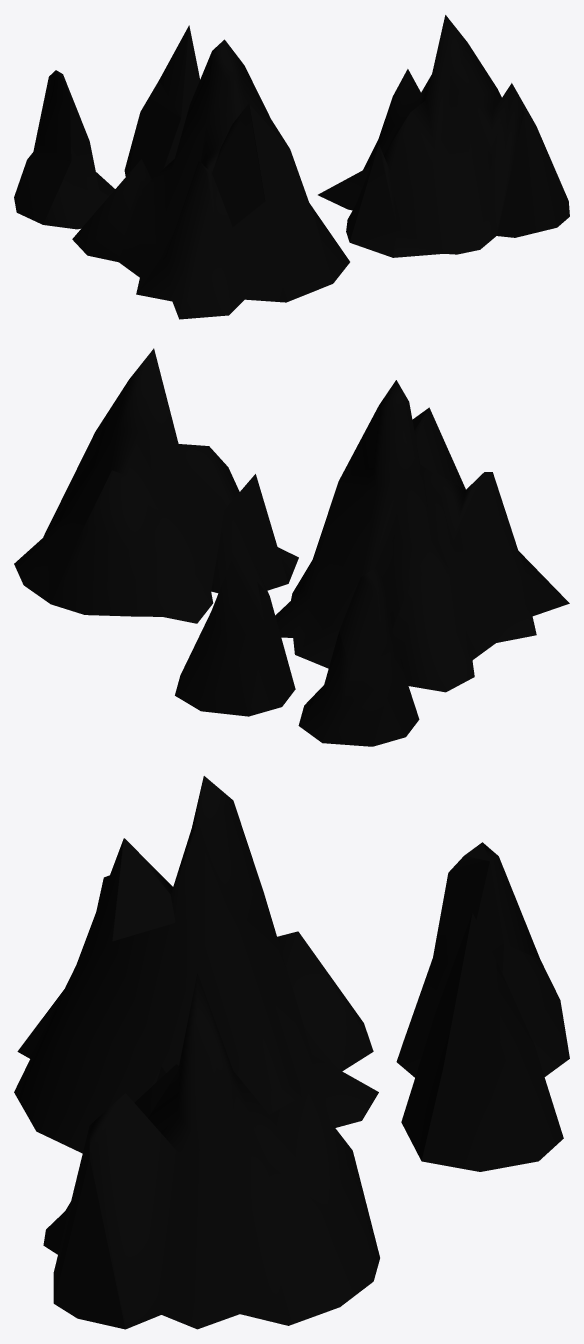
File: Rocks.fbx
3 renders of one model, top to bottom at view 1: azimuth 30°, elevation 25°; view 2: azimuth 150°, elevation 25°; view 3: azimuth 270°, elevation 25°, orthographic. The views are drawn at different scales.
Visible parts, largest first — view 1: pPlane89, pPlane92, pCube259, pCube260; view 2: pPlane89, pPlane92, pCube260, pCube259; view 3: pPlane92, pPlane89, pCube260, pCube259.
Part boxes in pixels (x1=…): pPlane89: x1=72, y1=39, x2=349, y2=319; pPlane92: x1=318, y1=15, x2=569, y2=257; pCube259: x1=14, y1=70, x2=114, y2=229; pCube260: x1=124, y1=25, x2=199, y2=178; pPlane89: x1=275, y1=380, x2=569, y2=692; pPlane92: x1=14, y1=348, x2=298, y2=623; pCube260: x1=175, y1=513, x2=295, y2=716; pCube259: x1=298, y1=568, x2=419, y2=746; pPlane92: x1=43, y1=973, x2=379, y2=1329; pPlane89: x1=14, y1=776, x2=378, y2=1153; pCube260: x1=401, y1=913, x2=563, y2=1171; pCube259: x1=396, y1=842, x2=569, y2=1077.
Bounding box in the file's own units: 23.12 × 11.4 × 17.68.
1 material, 1 textured.
